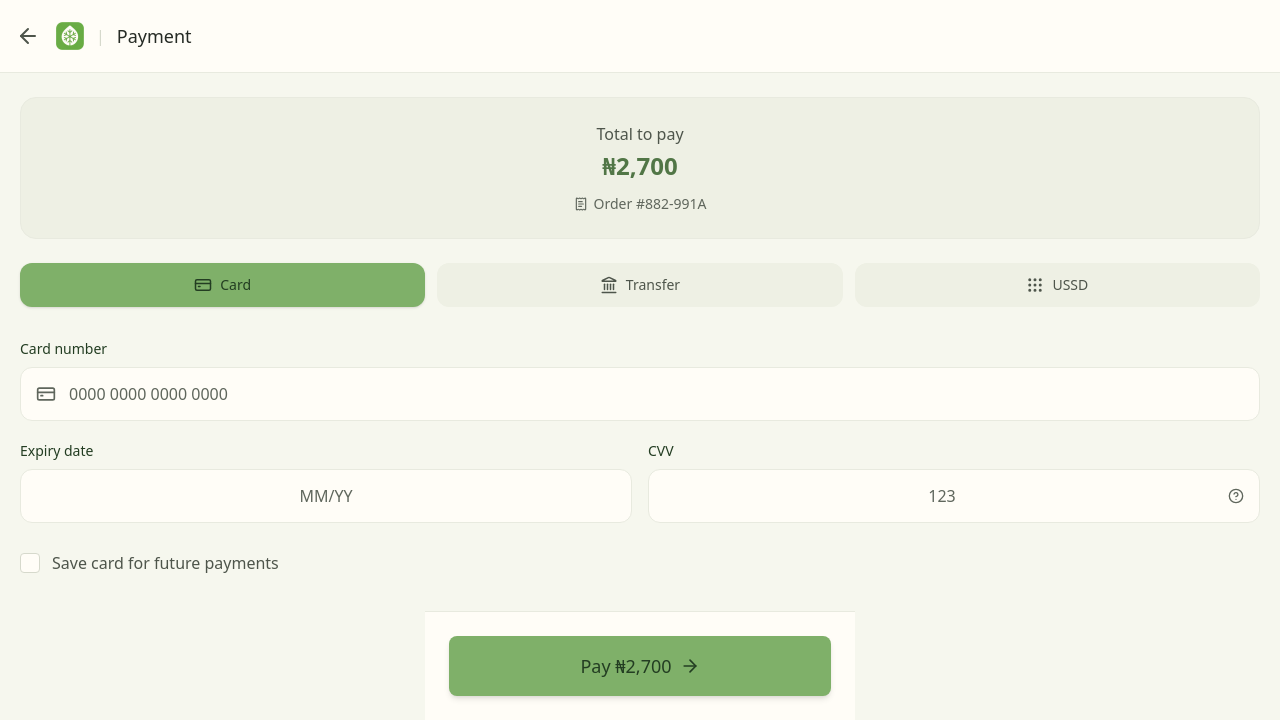
Test: Payment screen › says the USSD method is coming soon
Click the button "USSD" at coordinates (1057, 285), box 855,263 -> 1260,307
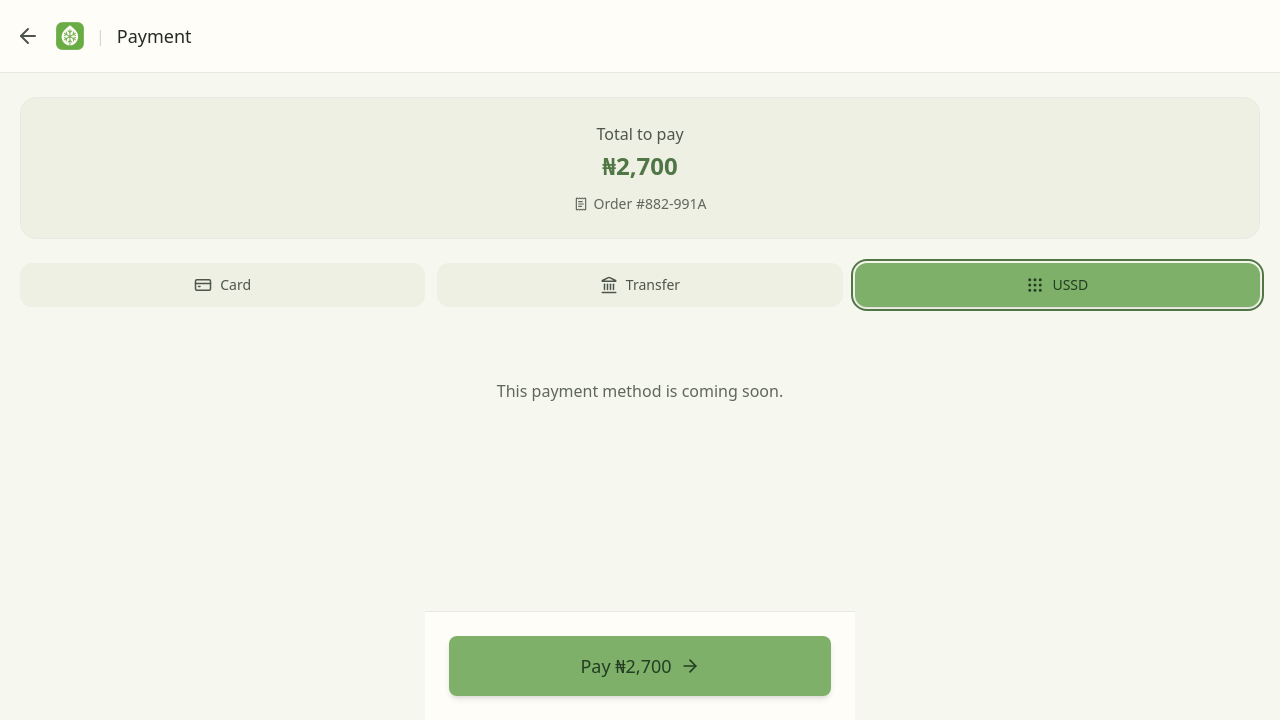
Expected: the text "This payment method is coming soon." is shown, 497,379 -> 783,403
Expected: the label labelled "Card number" is gone
